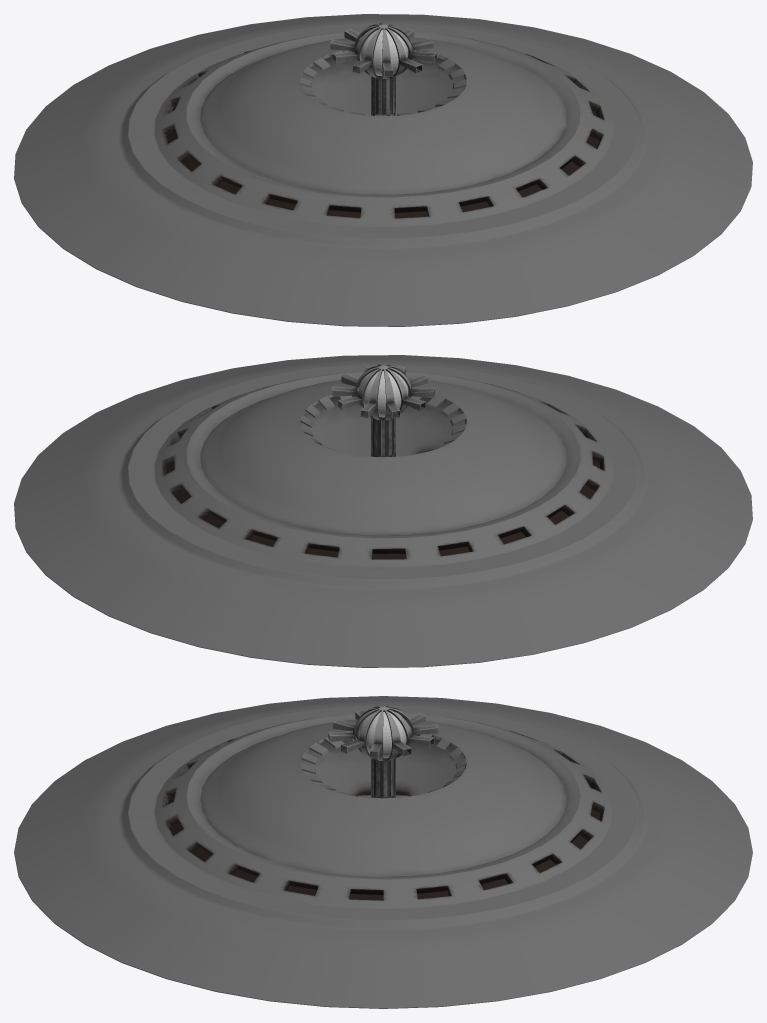
File: ufo.fbx
3 renders of one model, top to bottom at view 1: azimuth 30°, elevation 25°; view 2: azimuth 150°, elevation 25°; view 3: azimuth 270°, elevation 25°, orthographic.
Visible parts, largest first — view 1: ufo; view 2: ufo; view 3: ufo.
Part boxes in pixels (left/top/right/bottom): ufo: left=14, top=14, right=752, bottom=326; ufo: left=14, top=355, right=752, bottom=667; ufo: left=14, top=696, right=752, bottom=1008.
Bounding box in the file's own units: 848 × 300 × 848.
Materials: 1 (1 with a texture image).
